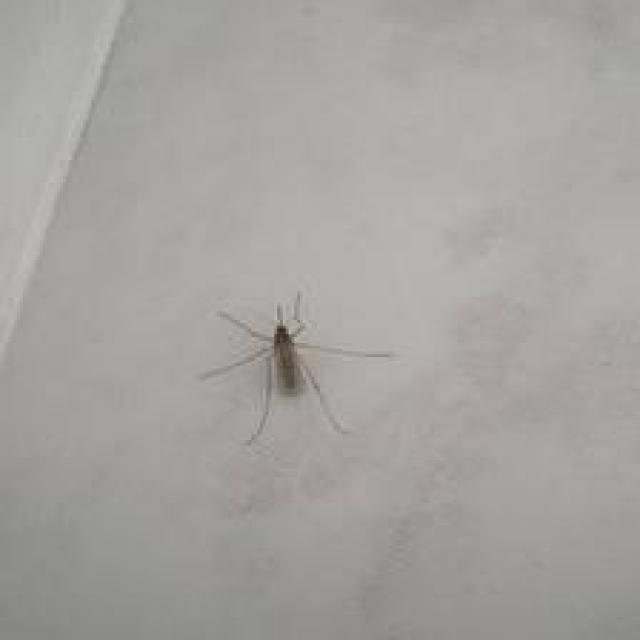Culex: (197, 288, 394, 446)
